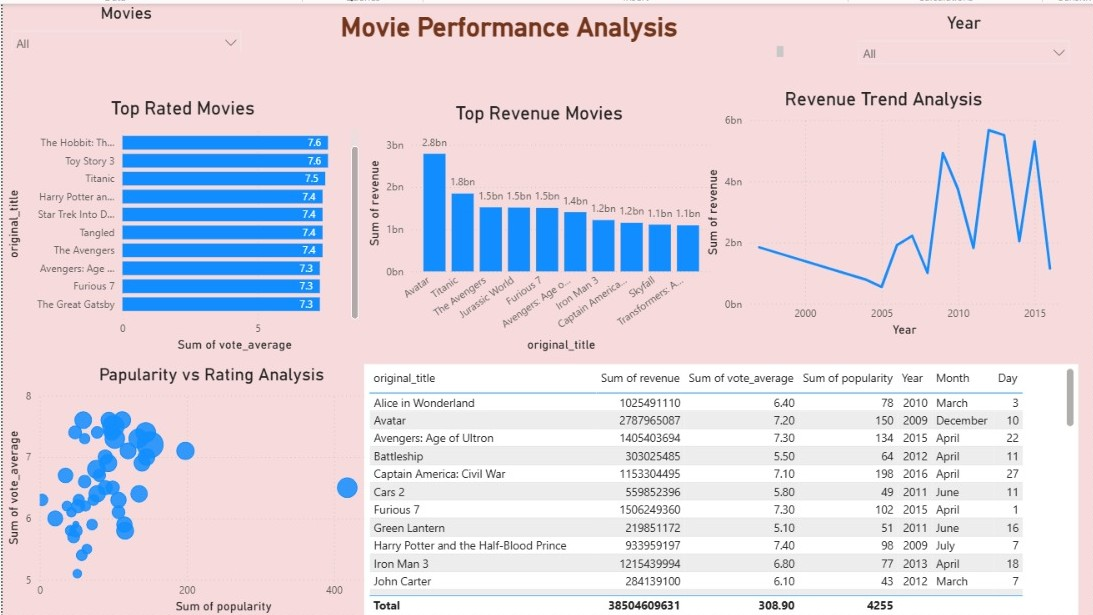

The dashboard page shown, as its layout file describes it:
{"tool":"powerbi","page":{"name":"Movie performance analysis","canvas":[1280,720],"ordinal":2},"visuals":[{"type":"textbox","title":"Movie Performance Analysis","box":[268.4,10.1,653.6,57.7],"z":0},{"type":"clusteredBarChart","title":"Top Rated Movies","fields":{"Category":["movies.original_title"],"Y":["Sum(movies.vote_average)"]},"box":[0,109.6,422.7,303],"z":1},{"type":"clusteredColumnChart","title":"Top Revenue Movies","fields":{"Category":["movies.original_title"],"Y":["Sum(movies.revenue)"]},"box":[423.1,116.2,413.3,297.1],"z":2},{"type":"scatterChart","title":"Papularity vs Rating Analysis","fields":{"Category":["movies.original_title"],"Size":["Sum(movies.revenue)"],"X":["Sum(movies.popularity)"],"Y":["Sum(movies.vote_average)"]},"box":[0,422.7,490.5,297.2],"z":3},{"type":"slicer","title":"Year","fields":{"Values":["movies.release_date.Variation.Date Hierarchy.Year"]},"box":[994.1,10.1,268.4,62],"z":4},{"type":"lineChart","title":"Revenue Trend Analysis","fields":{"Category":["movies.release_date.Variation.Date Hierarchy.Year"],"Y":["Sum(movies.revenue)"]},"box":[820.9,99.6,427.1,297.2],"z":5},{"type":"tableEx","fields":{"Values":["movies.original_title","Sum(movies.revenue)","Sum(movies.vote_average)","Sum(movies.popularity)","movies.release_date.Variation.Date Hierarchy.Year","movies.release_date.Variation.Date Hierarchy.Month","movies.release_date.Variation.Date Hierarchy.Day"]},"box":[424.2,422.7,838.2,297.2],"z":6},{"type":"slicer","title":"Movies","fields":{"Values":["movies.original_title"]},"box":[0,0,290,57.7],"z":7}]}

Visuals, with their boxes in screenshot pixels (x1, y1, x2, y2), scaled from the page's 1280x720 canvas onto the 1093x615 screenshot:
"Movie Performance Analysis" textbox: rect(229, 9, 787, 58)
"Top Rated Movies" clusteredBarChart: rect(0, 94, 361, 352)
"Top Revenue Movies" clusteredColumnChart: rect(361, 99, 714, 353)
"Papularity vs Rating Analysis" scatterChart: rect(0, 361, 419, 614)
"Year" slicer: rect(849, 9, 1078, 62)
"Revenue Trend Analysis" lineChart: rect(701, 85, 1066, 339)
tableEx - movies.original_title x Sum(movies.revenue): rect(362, 361, 1078, 614)
"Movies" slicer: rect(0, 0, 248, 49)
